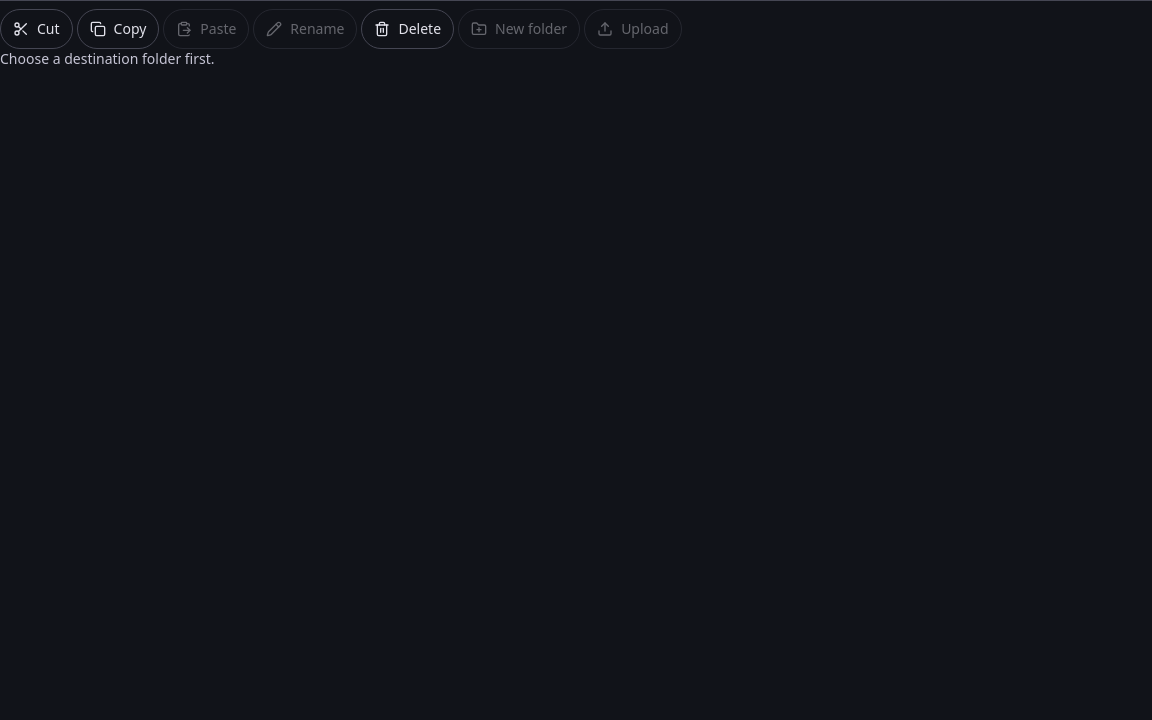
a mixed-library selection is checked before queueing deletion
The width and height of the screenshot is (1152, 720).
Click the button "Delete" at coordinates (408, 29), box x1=362 y1=9 x2=454 y2=49
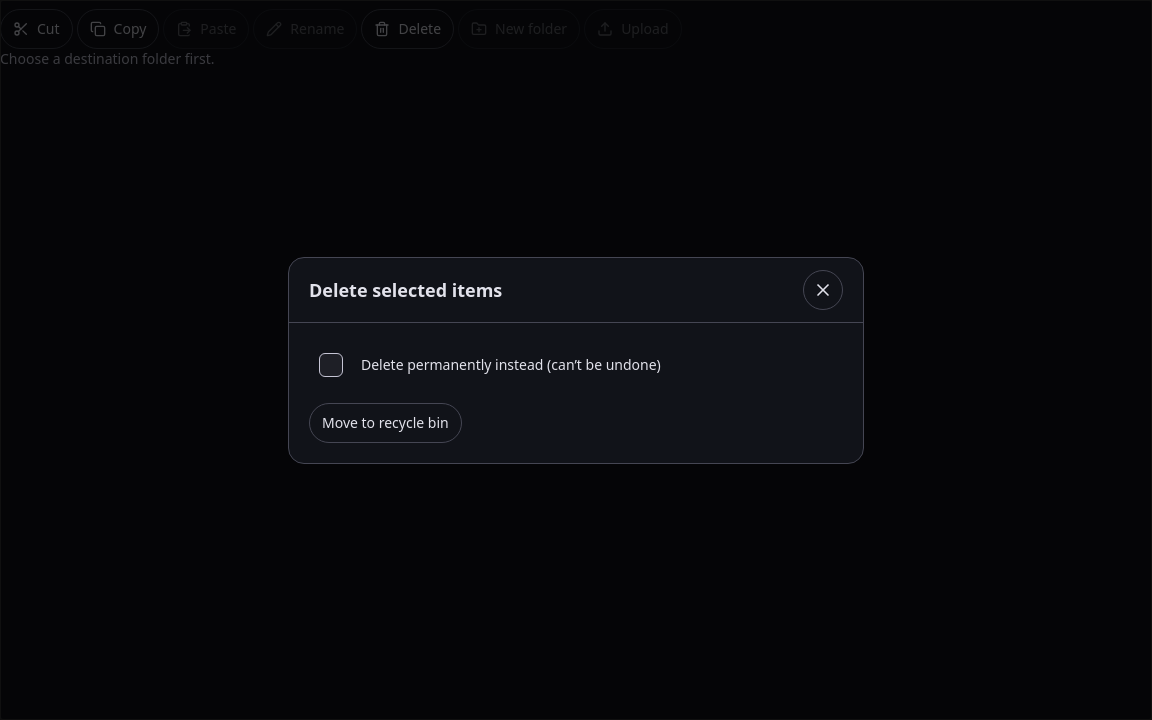
Click the button "Move to recycle bin" at coordinates (385, 422), box x1=309 y1=402 x2=462 y2=442
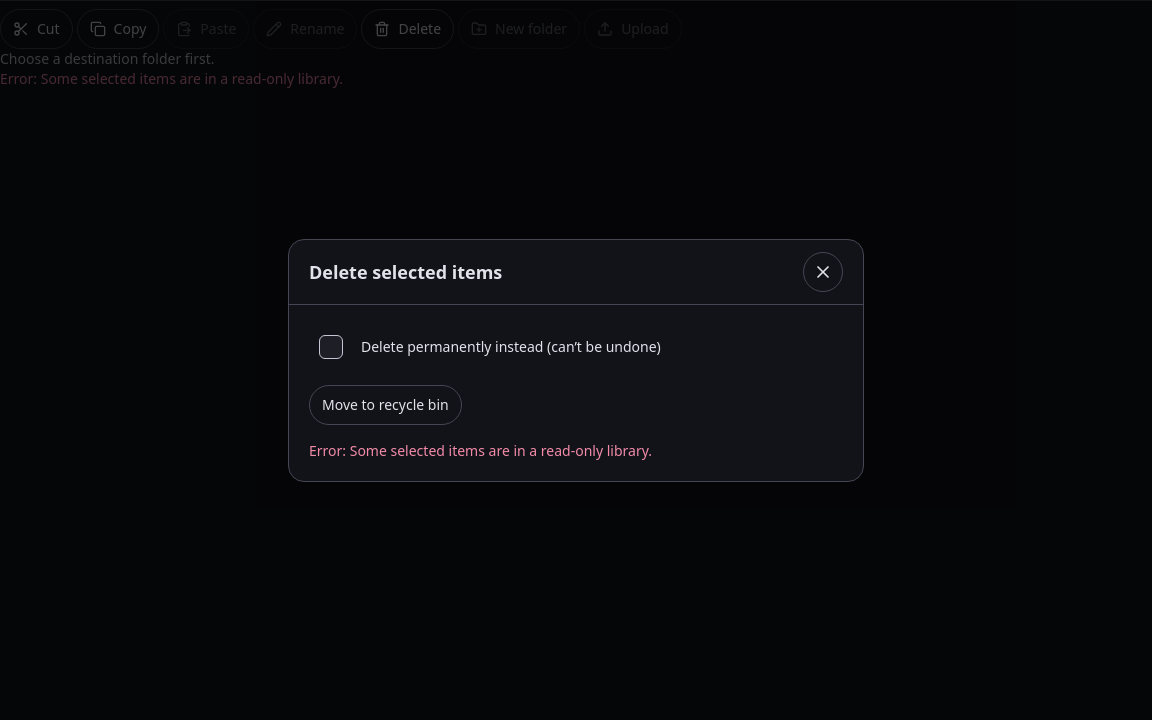
Check: the message shows "read-only", box x1=309 y1=440 x2=652 y2=460
